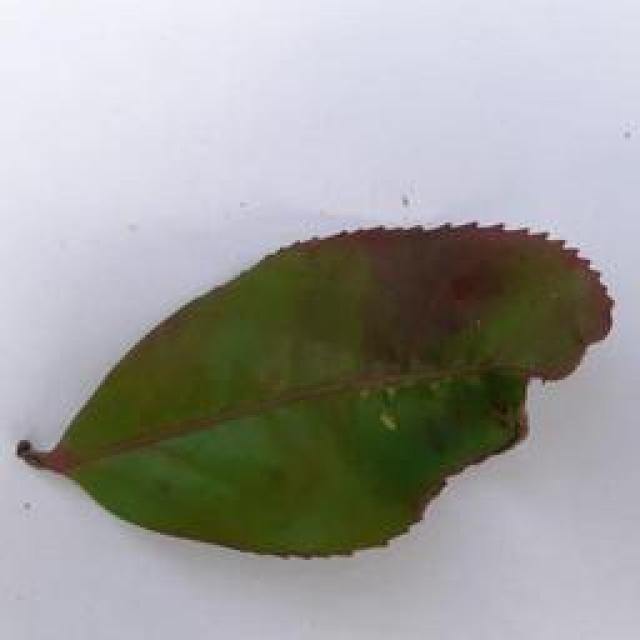Red Leaf Spot: (20, 214, 622, 560)
